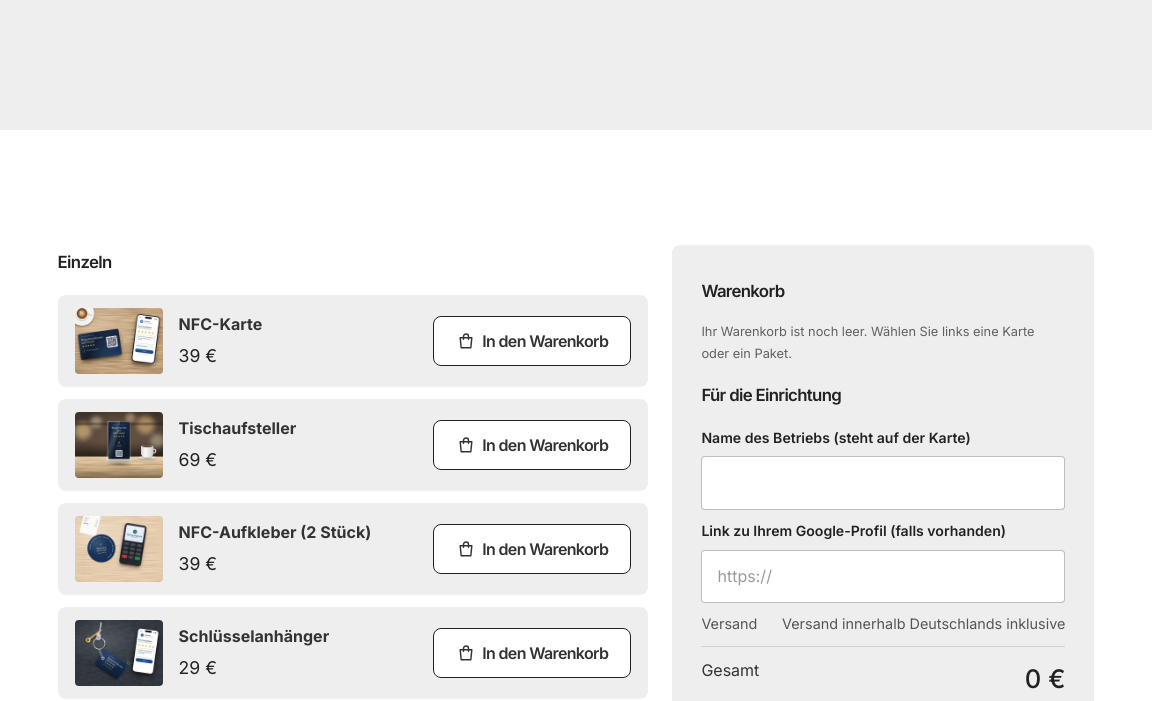
Test: ShopComponent › offener Shop › macht aus dem Knopf einen Mengenzähler, sobald das Produkt im Korb ist
This screenshot has width=1152, height=701.
(page scrolled)
Click the 1st button with class "shop-add": (532, 341) [433,316,631,366]
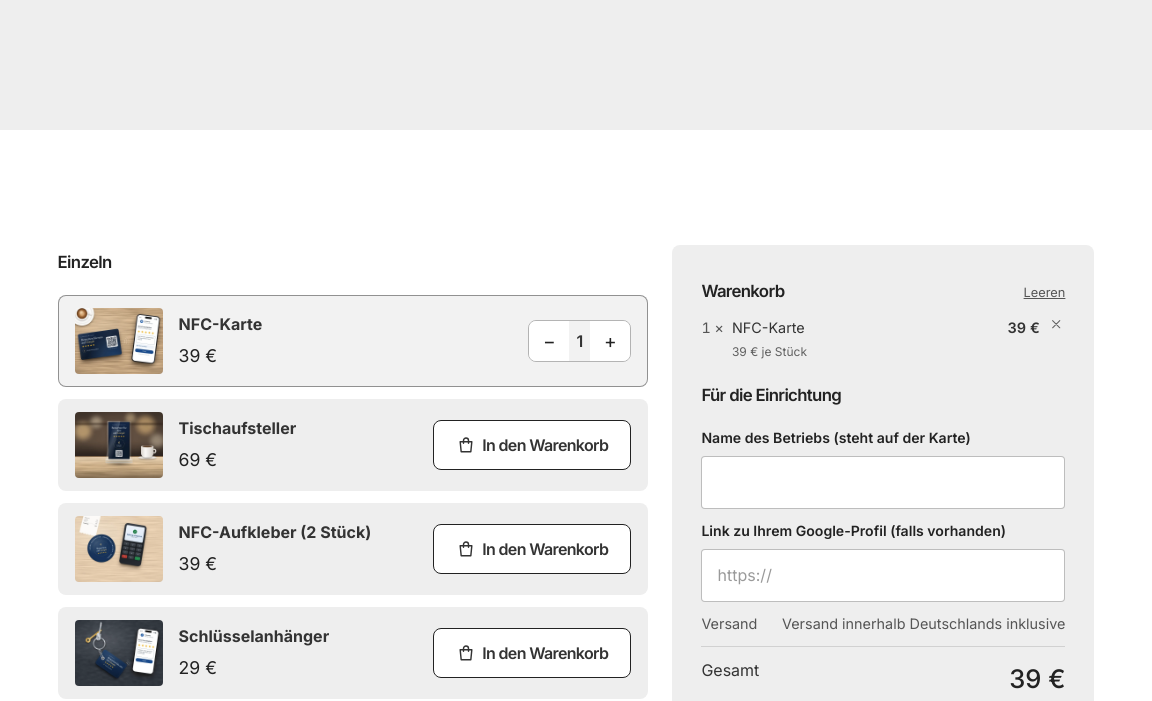
Result: the element with class "shop-line" showing "NFC-Karte 39 € − 1 +" is shown at [58,295,648,387]
